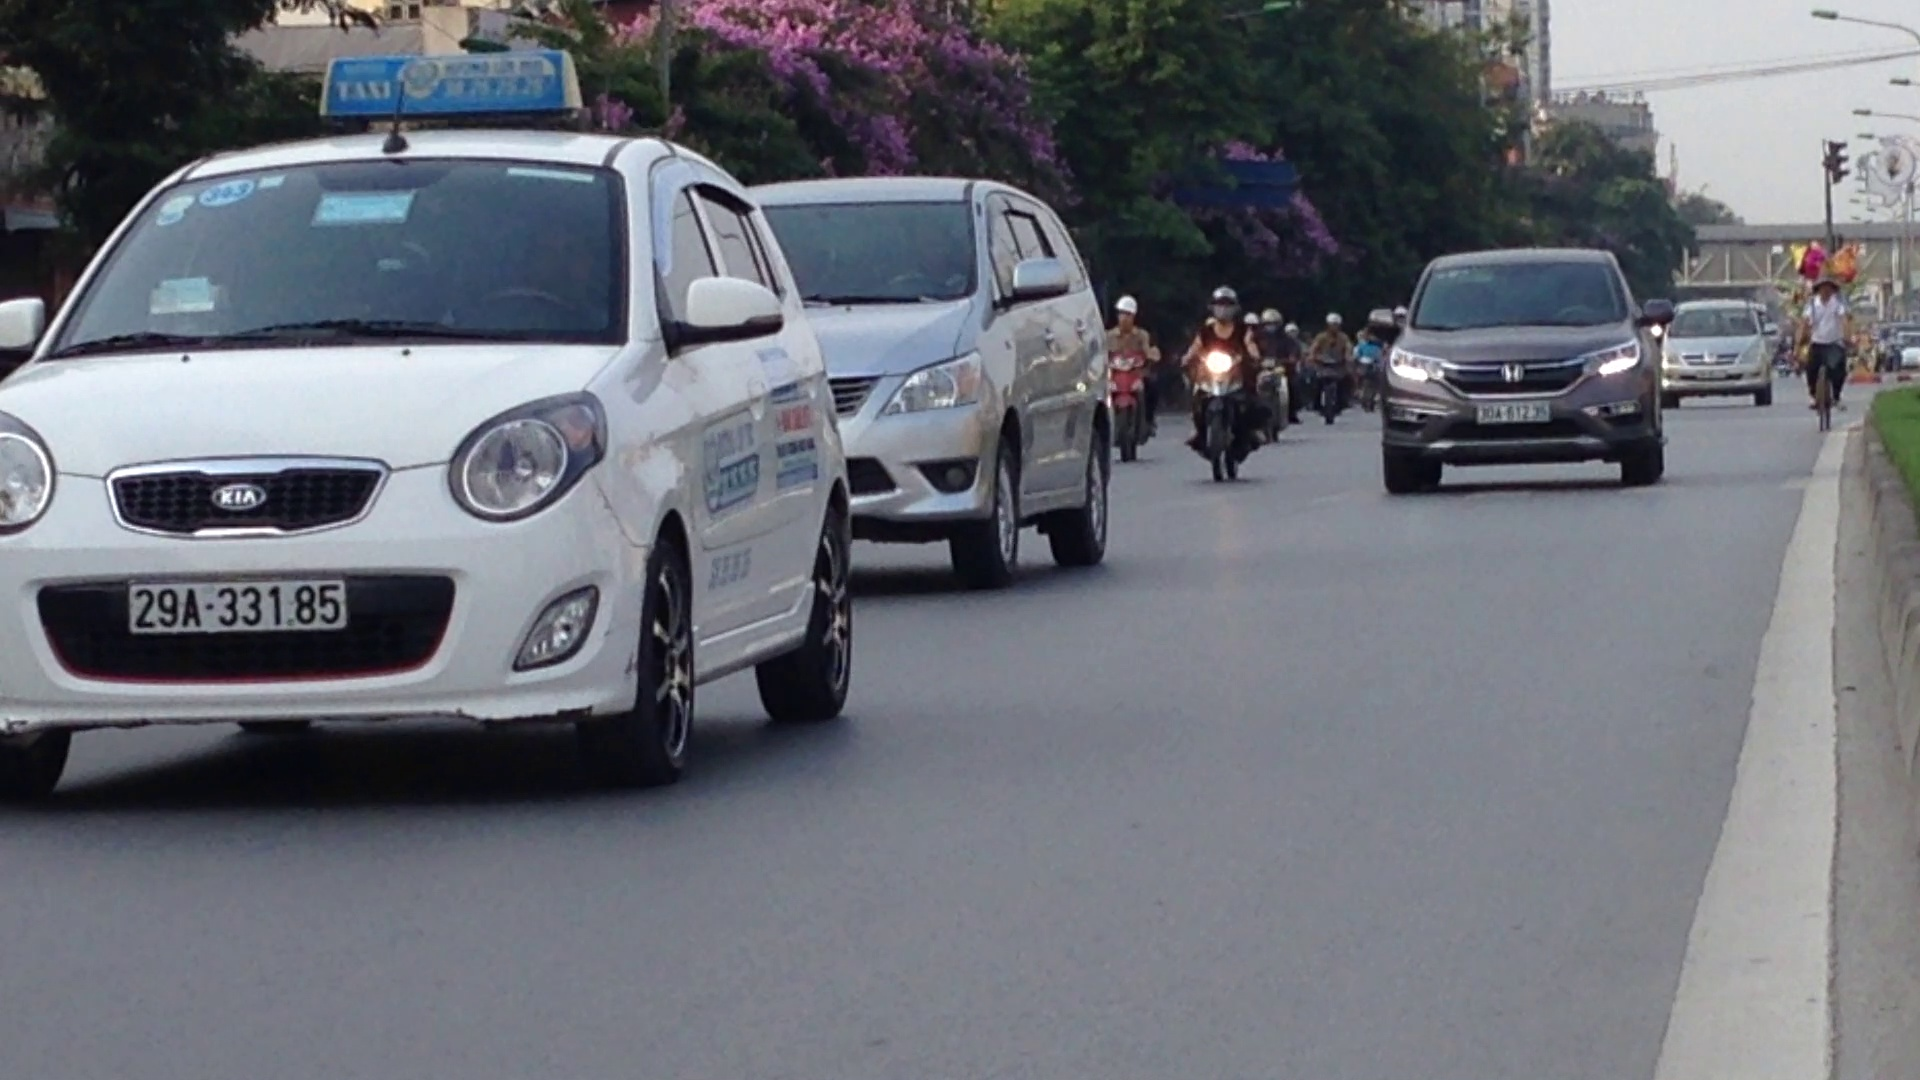vehicle-plate: (122, 575, 352, 635), (1470, 395, 1553, 426)
